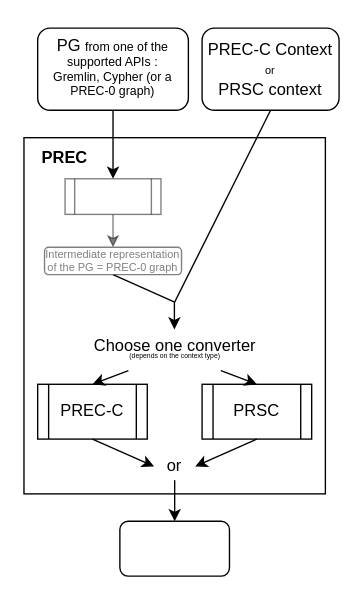
This 363x600 diagram has some shape labels left out. Here are the shapes that lost their labels. From the top down, the box of each, then its label:
(64, 177, 161, 214): PREC-0
(119, 520, 229, 576): RDF graph
